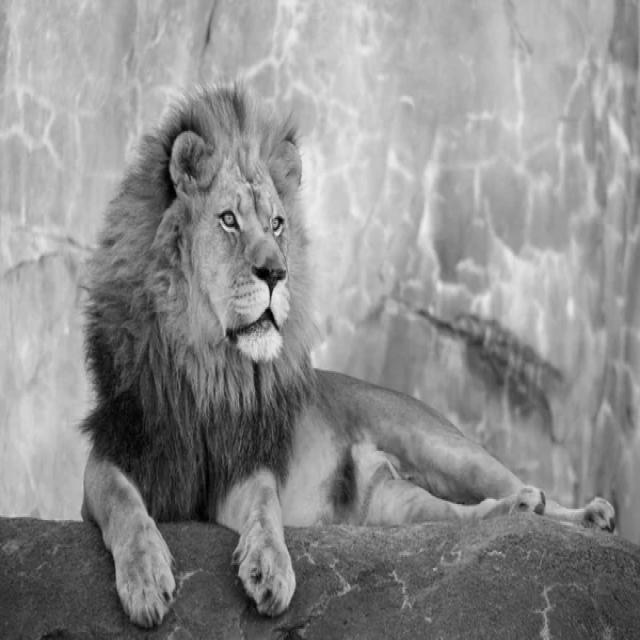Animal: (82, 86, 616, 628)
